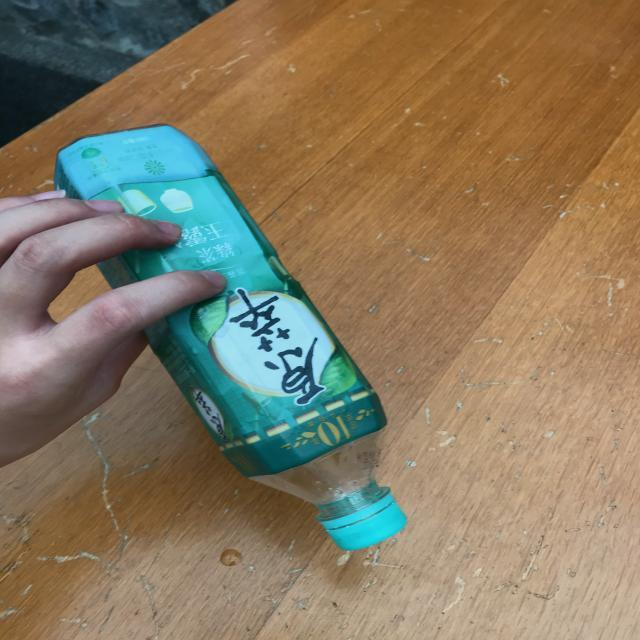plastic_bottle: (54, 124, 408, 550)
